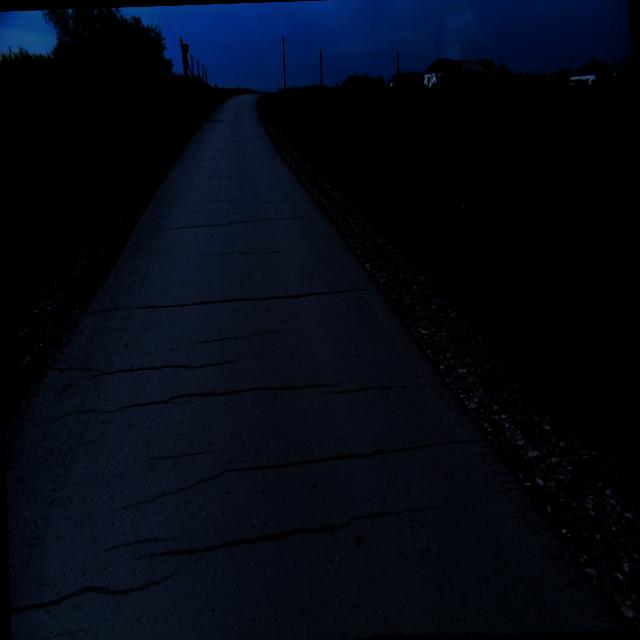road: (4, 91, 626, 640)
